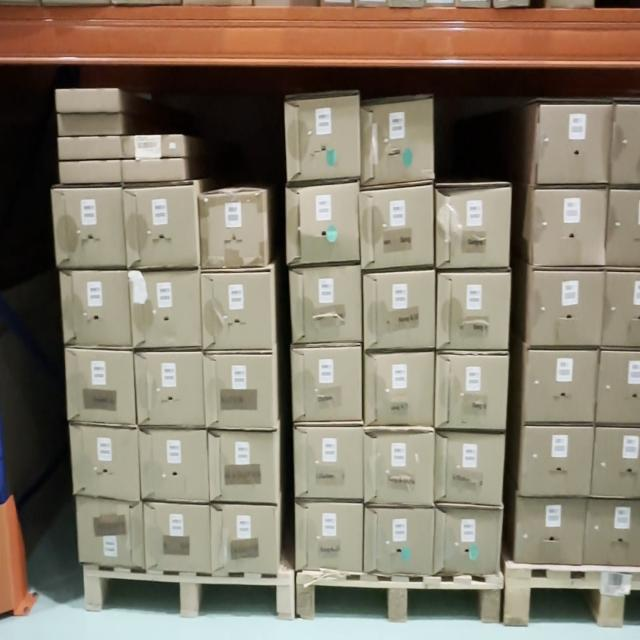box: (362, 184, 432, 270), (436, 186, 510, 267), (362, 96, 432, 179), (127, 188, 199, 265), (287, 99, 357, 176), (533, 190, 605, 264), (203, 270, 271, 348), (435, 355, 509, 426), (540, 106, 608, 183), (366, 273, 434, 347), (440, 274, 508, 348), (206, 352, 272, 428), (287, 190, 358, 260), (291, 270, 361, 341), (292, 349, 362, 420), (532, 270, 600, 343), (133, 272, 200, 346), (365, 431, 434, 502), (210, 430, 277, 503), (528, 348, 594, 422), (58, 187, 121, 264), (296, 427, 363, 499), (520, 428, 590, 496), (366, 353, 432, 424), (436, 433, 502, 503), (138, 353, 203, 424), (73, 426, 138, 495), (64, 272, 128, 342), (210, 507, 277, 573), (145, 502, 210, 570), (69, 350, 132, 420), (296, 504, 362, 570), (142, 432, 206, 498), (365, 509, 432, 572), (517, 499, 581, 564), (203, 198, 263, 264), (435, 510, 499, 571), (79, 503, 142, 564), (587, 501, 640, 564), (595, 425, 640, 498), (599, 350, 640, 423), (602, 271, 640, 344), (608, 190, 640, 262), (615, 103, 640, 181), (60, 136, 119, 160), (122, 134, 182, 157), (59, 112, 121, 132), (61, 160, 119, 180), (58, 90, 118, 109), (122, 162, 184, 180)
